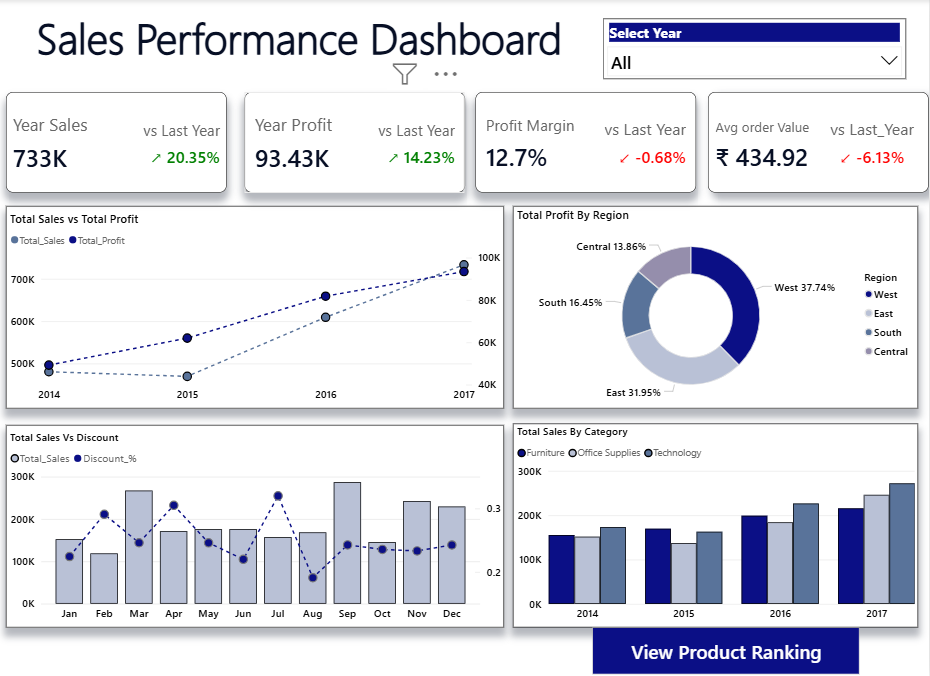

What the dashboard file says about the page in this screenshot:
{"tool":"powerbi","page":{"name":"Page 1","canvas":[1280,900],"ordinal":0},"visuals":[{"type":"textbox","box":[9.4,9.4,820.6,88.3],"z":0},{"type":"cardVisual","fields":{"Data":["sales superstore.Month sales","sales superstore.vs Last Month"]},"box":[25,143.9,290,140.8],"z":1000},{"type":"cardVisual","fields":{"Data":["sales superstore.Year Profit","sales superstore.vs Last Year Profit"]},"box":[334.7,143.9,290,140.8],"z":2000},{"type":"cardVisual","fields":{"Data":["sales superstore.Year Profit Margin","sales superstore.vs Last Year Profit Margin"]},"box":[653.8,143.9,289.4,140.8],"z":3000},{"type":"card","fields":{"Values":["sales superstore.Average_per_order"]},"box":[1019.8,140.8,247.1,151.7],"z":4000},{"type":"lineChart","fields":{"Y":["sales superstore.Total_Sales"],"Category":["Date table.YEAR"],"Y2":["sales superstore.Total_Profit"]},"box":[0,405.1,744.5,242.4],"z":5000},{"type":"lineClusteredColumnComboChart","fields":{"Y":["sales superstore.Total_Sales"],"Y2":["sales superstore.Discount_%"],"Category":["Date table.Month_name"]},"box":[624.1,570.9,567.8,284.7],"z":6000},{"type":"slicer","fields":{"Values":["Date table.YEAR","Date table.Month_name"]},"box":[843.1,26.6,423.9,84.5],"z":7000},{"type":"pieChart","fields":{"Y":["sales superstore.Total_Profit"],"Category":["sales superstore.Region"]},"box":[797.7,292.5,394.2,250.3],"z":8000},{"type":"clusteredColumnChart","fields":{"Category":["Date table.YEAR"],"Y":["sales superstore.Total_Sales"],"Series":["sales superstore.Category"]},"box":[76.6,570.9,475.5,306.6],"z":9000}]}

Visuals, with their boxes on the page's 1280x900 design canvas (x1, y1, x2, y2). These are canvas units, not pixel positions in the 930x676 screenshot, which may show the page scaled, cropped or inside an application window:
textbox: {"left": 9, "top": 9, "right": 830, "bottom": 98}
cardVisual - sales superstore.Month sales x sales superstore.vs Last Month: {"left": 25, "top": 144, "right": 315, "bottom": 285}
cardVisual - sales superstore.Year Profit x sales superstore.vs Last Year Profit: {"left": 335, "top": 144, "right": 625, "bottom": 285}
cardVisual - sales superstore.Year Profit Margin x sales superstore.vs Last Year Profit Margin: {"left": 654, "top": 144, "right": 943, "bottom": 285}
card - sales superstore.Average_per_order: {"left": 1020, "top": 141, "right": 1267, "bottom": 292}
lineChart - sales superstore.Total_Sales x Date table.YEAR: {"left": 0, "top": 405, "right": 744, "bottom": 648}
lineClusteredColumnComboChart - sales superstore.Total_Sales x sales superstore.Discount_%: {"left": 624, "top": 571, "right": 1192, "bottom": 856}
slicer - Date table.YEAR x Date table.Month_name: {"left": 843, "top": 27, "right": 1267, "bottom": 111}
pieChart - sales superstore.Total_Profit x sales superstore.Region: {"left": 798, "top": 292, "right": 1192, "bottom": 543}
clusteredColumnChart - Date table.YEAR x sales superstore.Total_Sales: {"left": 77, "top": 571, "right": 552, "bottom": 878}
